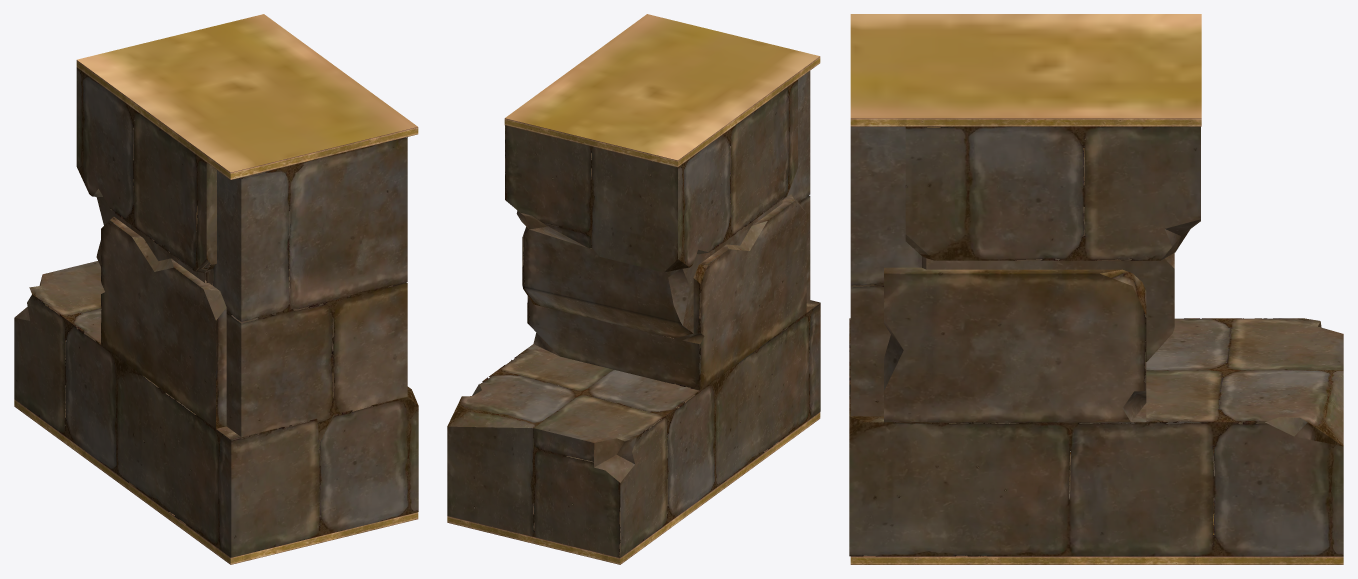
The picture shows the model from 3 angles, left to right: view 1: azimuth 30°, elevation 25°; view 2: azimuth 150°, elevation 25°; view 3: azimuth 270°, elevation 25°; orthographic projection. The views are drawn at different scales.
Parts seen in each view (by area): view 1: SM_DK_Crumbled_BrickWall_05_LOD0; view 2: SM_DK_Crumbled_BrickWall_05_LOD0; view 3: SM_DK_Crumbled_BrickWall_05_LOD0.
Part boxes in pixels (x1,y1,x2,y2): SM_DK_Crumbled_BrickWall_05_LOD0: (14, 14, 418, 564); SM_DK_Crumbled_BrickWall_05_LOD0: (447, 14, 820, 564); SM_DK_Crumbled_BrickWall_05_LOD0: (849, 14, 1343, 564).
Size of the model in its own units: 2 by 4 by 4.01.
2 materials, 2 textured.
